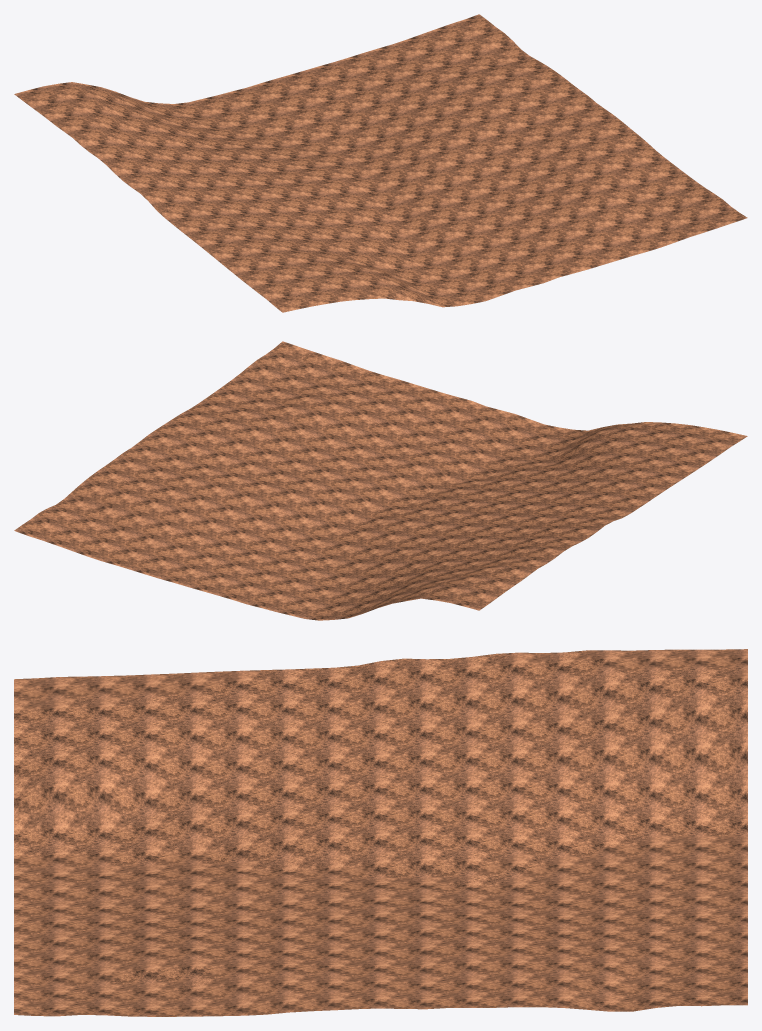
File: terrain_08_08.dae
3 views of the same model, one above another, from view 1: azimuth 30°, elevation 25°; view 2: azimuth 150°, elevation 25°; view 3: azimuth 270°, elevation 25° (orthographic). The views are drawn at different scales.
Parts seen in each view (by area): view 1: terrain_08_08-node; view 2: terrain_08_08-node; view 3: terrain_08_08-node.
Part boxes in pixels (x1=…): terrain_08_08-node: x1=14, y1=14, x2=747, y2=312; terrain_08_08-node: x1=14, y1=341, x2=747, y2=620; terrain_08_08-node: x1=14, y1=649, x2=747, y2=1016.
Size of the model in its own units: 128 by 128 by 15.93.
1 material, 1 textured.
